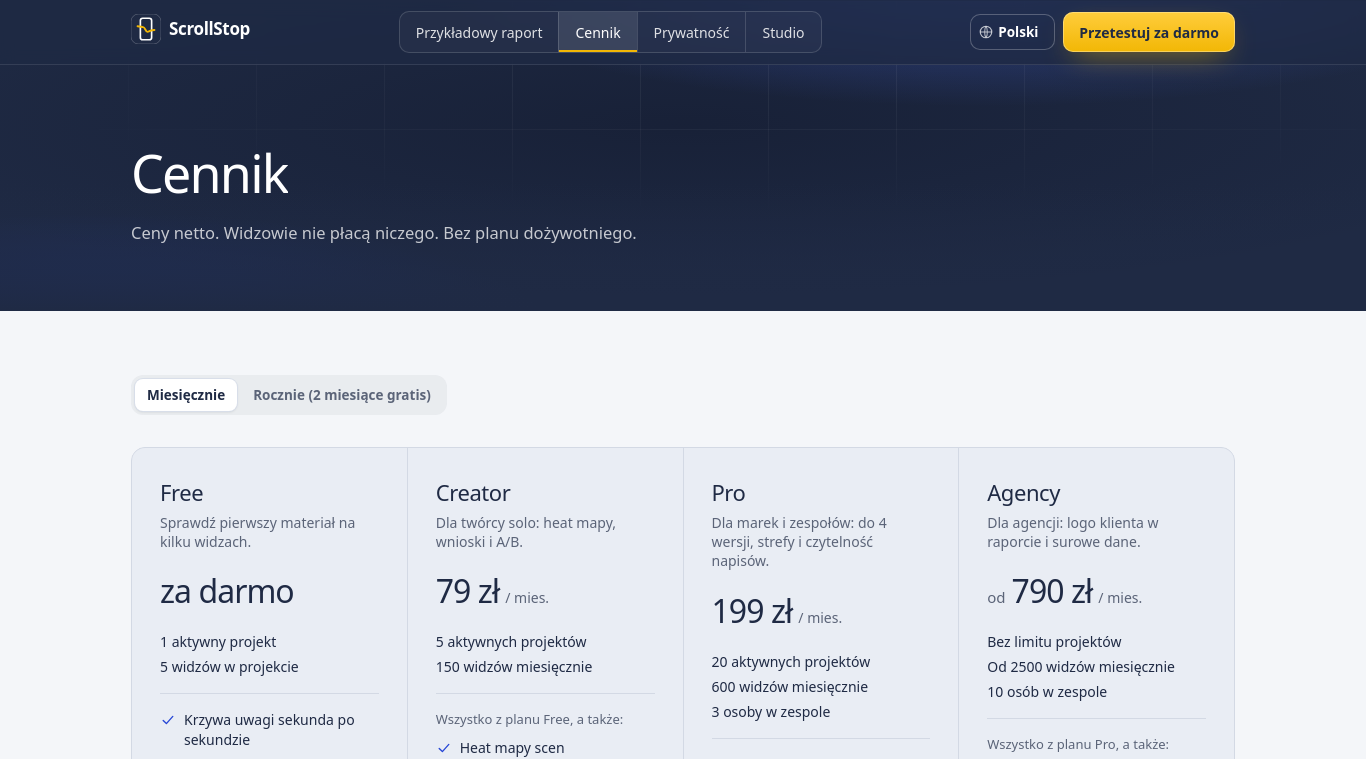
strona publiczna (M4) › cennik w PLN: zamówienie e-mailem, okres roczny = 10 × miesięczna, „wkrótce” przy brakujących funkcjach
Expected: the heading "Cennik" is shown, [131,137,288,208]
Expected: the text "79 zł" is shown, [436,567,499,615]
Click the radio button labelled "Rocznie (2 miesiące gratis)": (342, 395) [241,379,443,411]
(page scrolled)
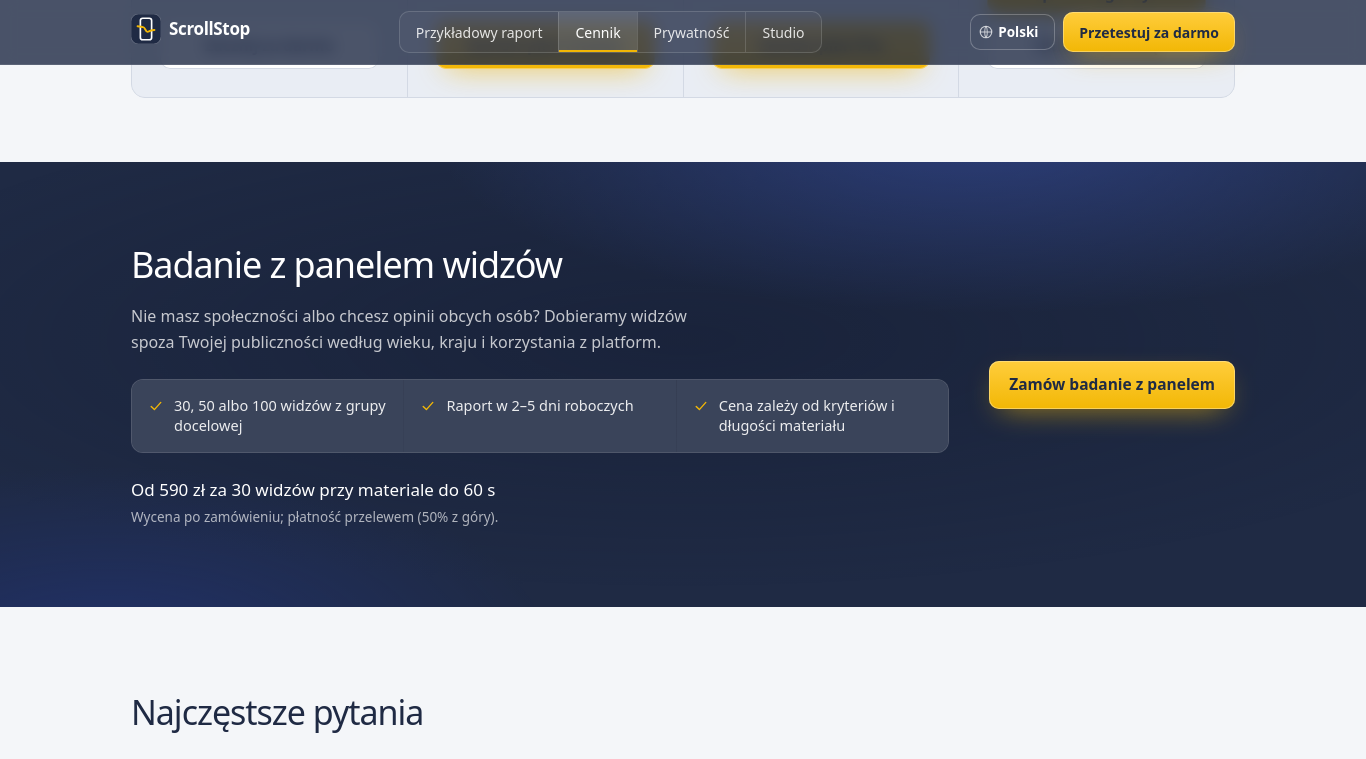
// Badanie z panelem: formularz (bez serwera kończy się e-mailem z podsumowaniem).
Click the button "Zamów badanie z panelem": (1112, 385) [989,361,1235,409]
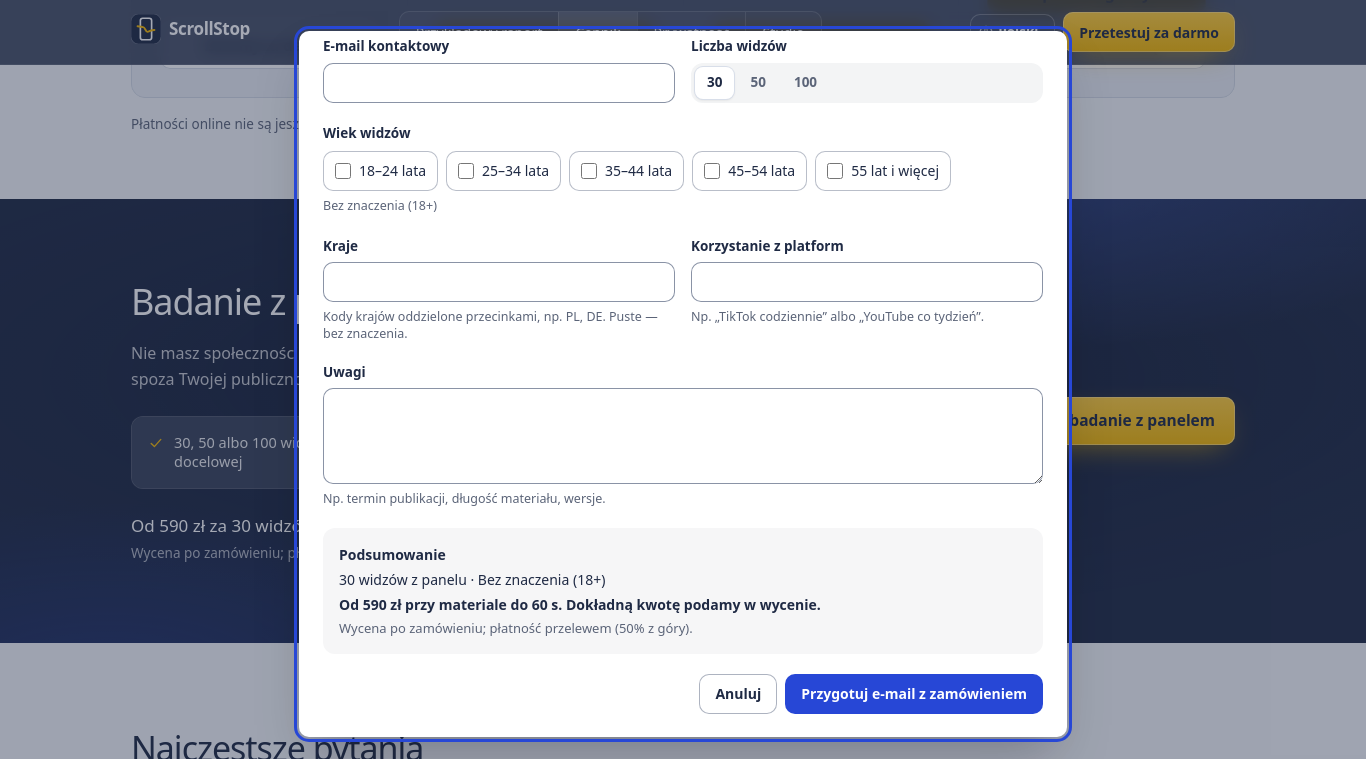
Now the dialog "Zamów badanie z panelem" is shown, box [299,31,1067,737]
Now the button "Przygotuj e-mail z zamówieniem" is shown, box [785,674,1043,714]
